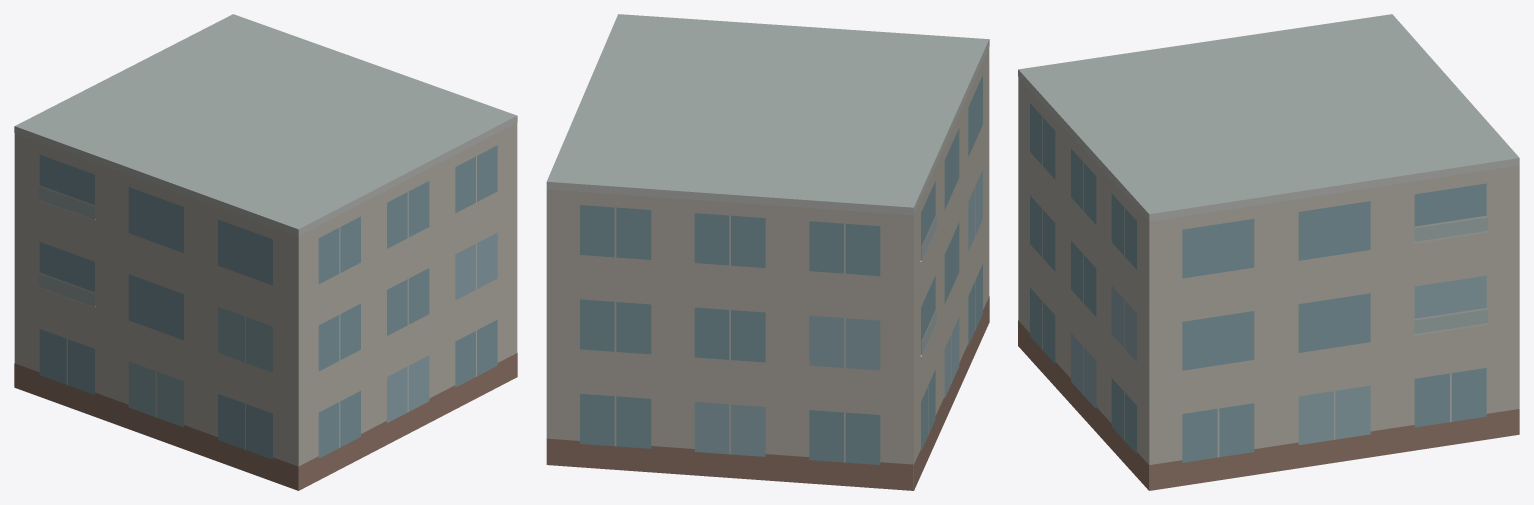
Rendered from survey-upis-32932588.glb.
The picture shows the model from 3 angles, left to right: view 1: azimuth 30°, elevation 25°; view 2: azimuth 150°, elevation 25°; view 3: azimuth 270°, elevation 25°; orthographic projection. The views are drawn at different scales.
Visible parts, largest first — view 1: survey-upis-32932588.tmp; view 2: survey-upis-32932588.tmp; view 3: survey-upis-32932588.tmp.
Boxes of the visible parts, box(x1,y1,x2,y2) form: survey-upis-32932588.tmp: box(14, 14, 517, 490); survey-upis-32932588.tmp: box(546, 14, 989, 490); survey-upis-32932588.tmp: box(1018, 14, 1519, 490).
Bounding box in the file's own units: 14.22 × 9.15 × 15.05.
